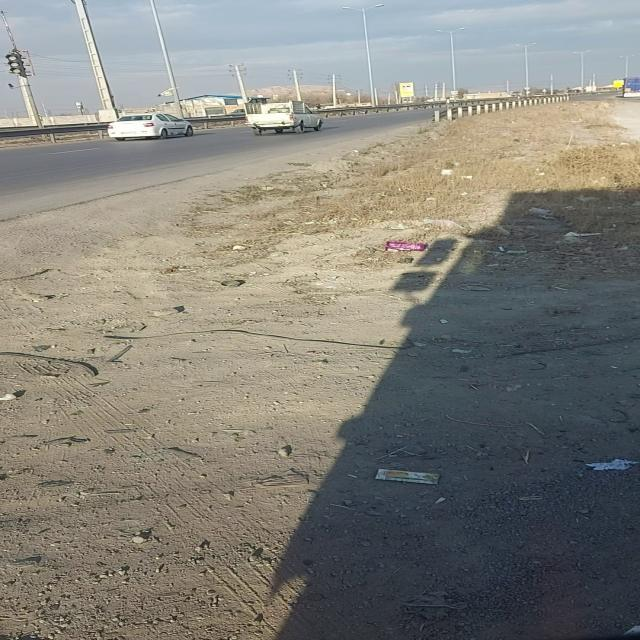Car: (104, 110, 203, 142)
Pickup: (236, 98, 334, 138)
